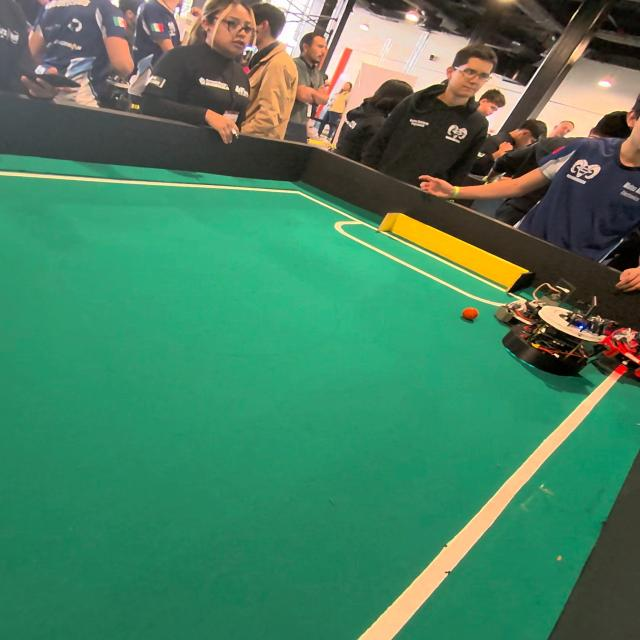Robot: (513, 313, 595, 374), (501, 281, 572, 335), (599, 310, 640, 380)
pelota: (461, 306, 479, 322)
